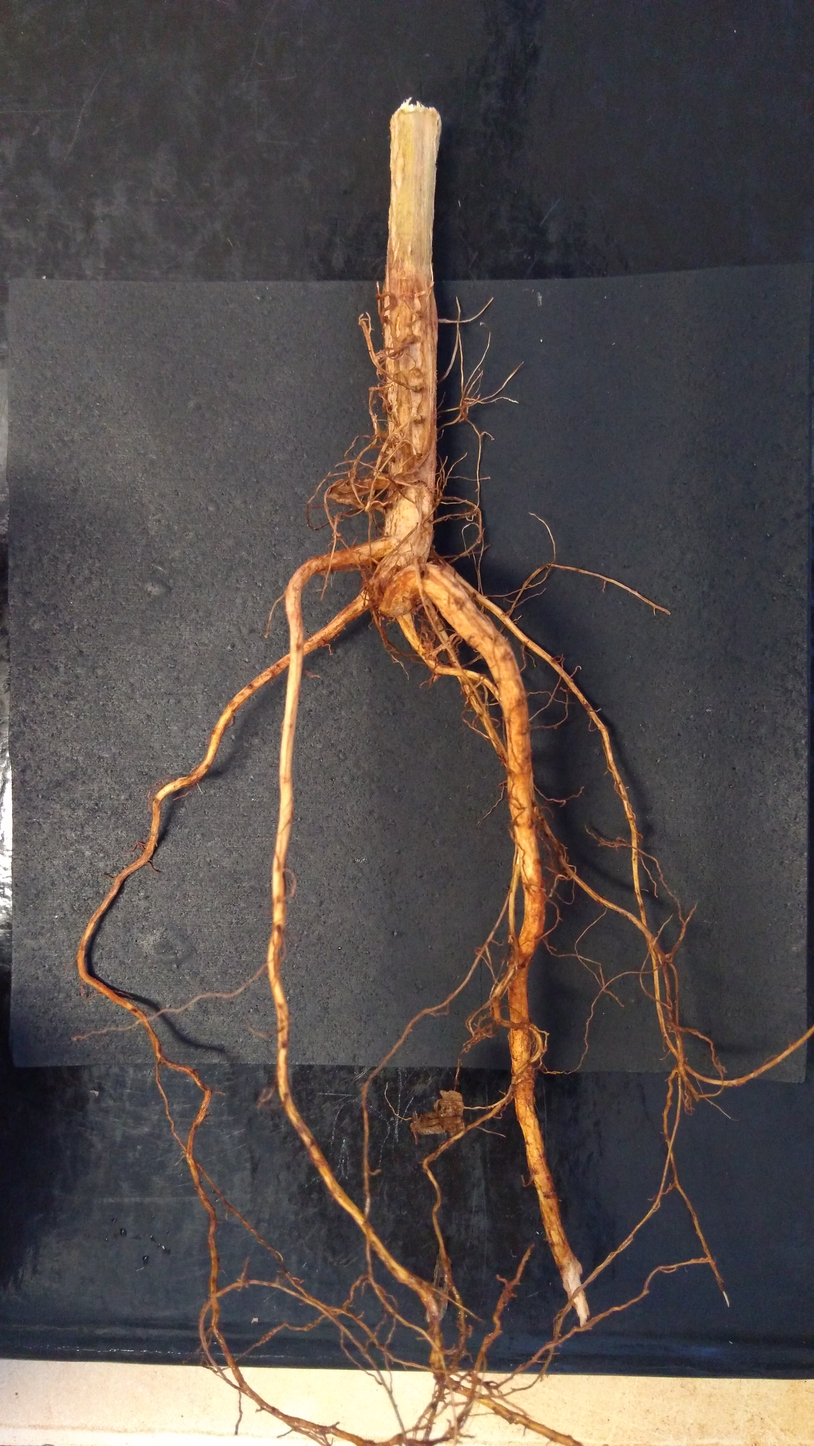nodule: (409, 1089, 464, 1137), (376, 570, 420, 618), (325, 477, 362, 505), (420, 629, 435, 652)
